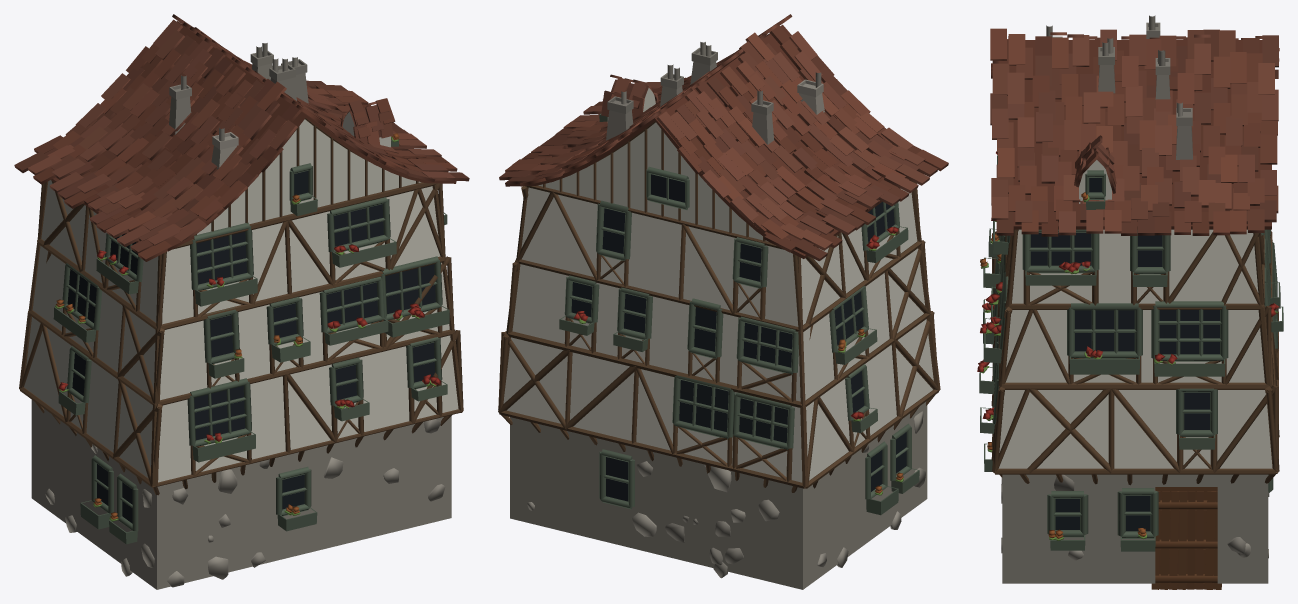
File: house_03.glb
The picture shows the model from 3 angles, left to right: view 1: azimuth 30°, elevation 25°; view 2: azimuth 150°, elevation 25°; view 3: azimuth 270°, elevation 25°; orthographic projection. The views are drawn at different scales.
Visible parts, largest first — view 1: house_03; view 2: house_03; view 3: house_03.
Boxes of the visible parts, bbox=[...] form: house_03: bbox=[14, 14, 469, 589]; house_03: bbox=[498, 14, 948, 589]; house_03: bbox=[977, 15, 1283, 589].
Bounding box in the file's own units: 7.84 × 10.53 × 5.95.
